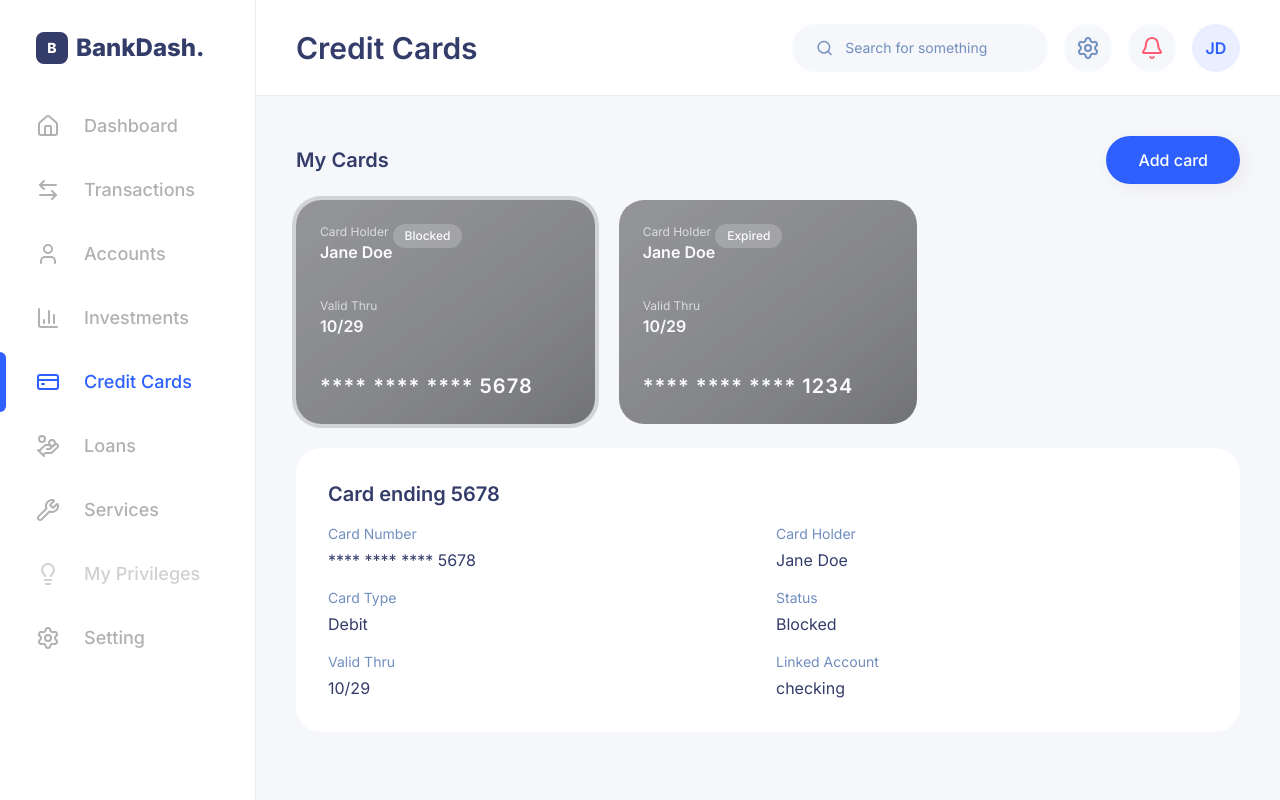
Test: Credit Cards › PIN › AC12: offers no PIN change for a blocked or expired card
Expected: the text "Blocked" below "Status" is shown, [776,614,837,634]
Click the button with aria-label "Card ending 1234" at (677, 232), box [619,200,917,424]
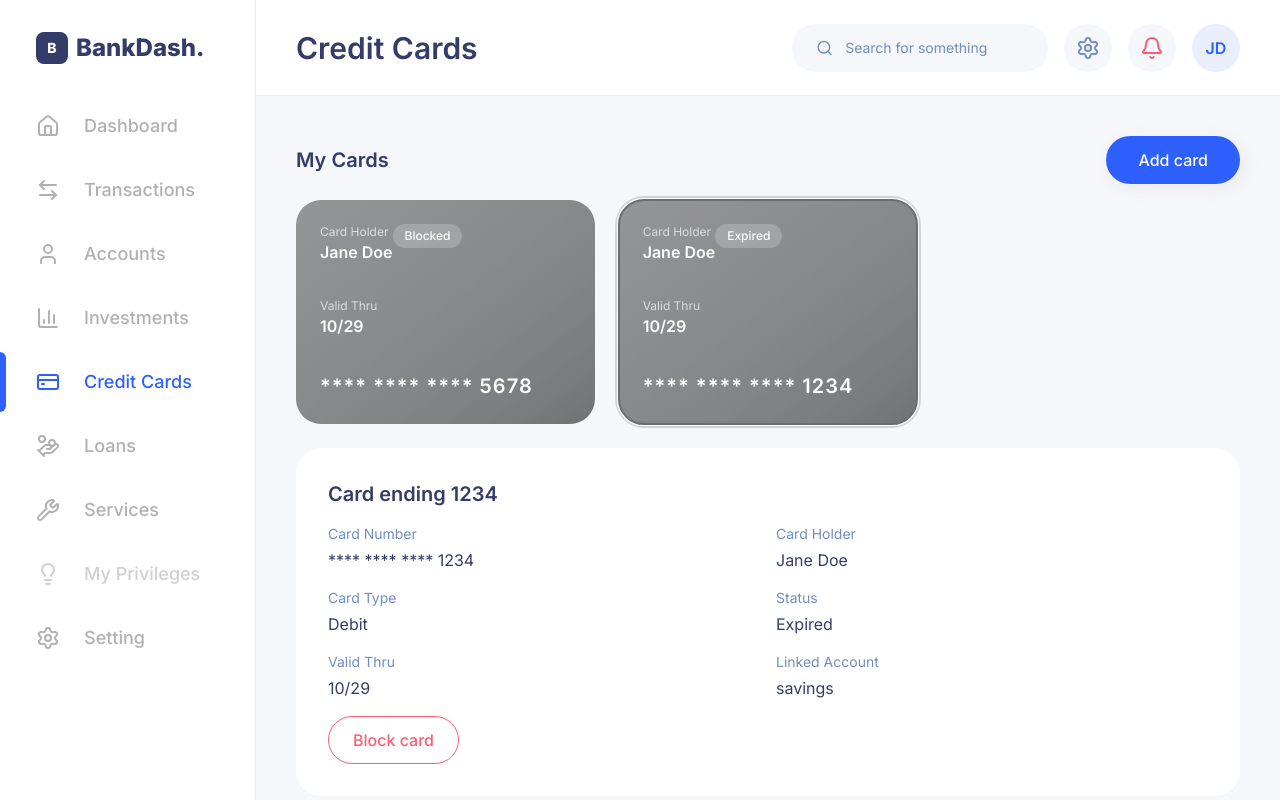
Now the text "Expired" below "Status" is shown, box [776,614,833,634]
